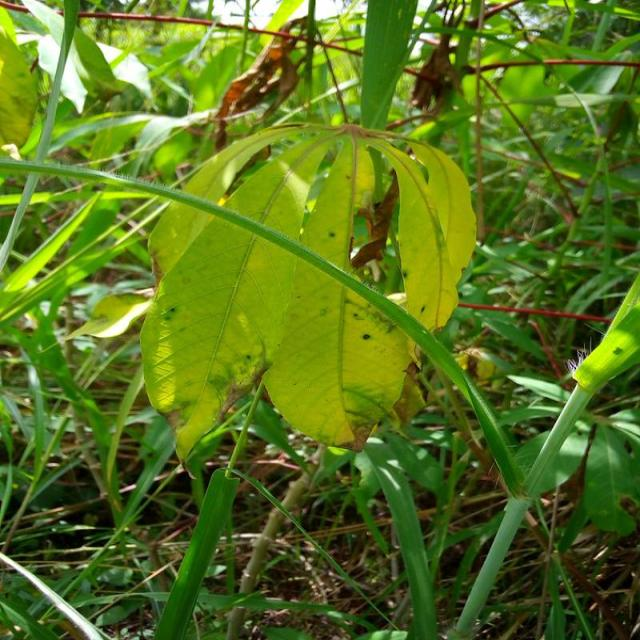cassava leaf: (140, 121, 476, 465), (138, 153, 309, 464), (261, 130, 412, 451)
